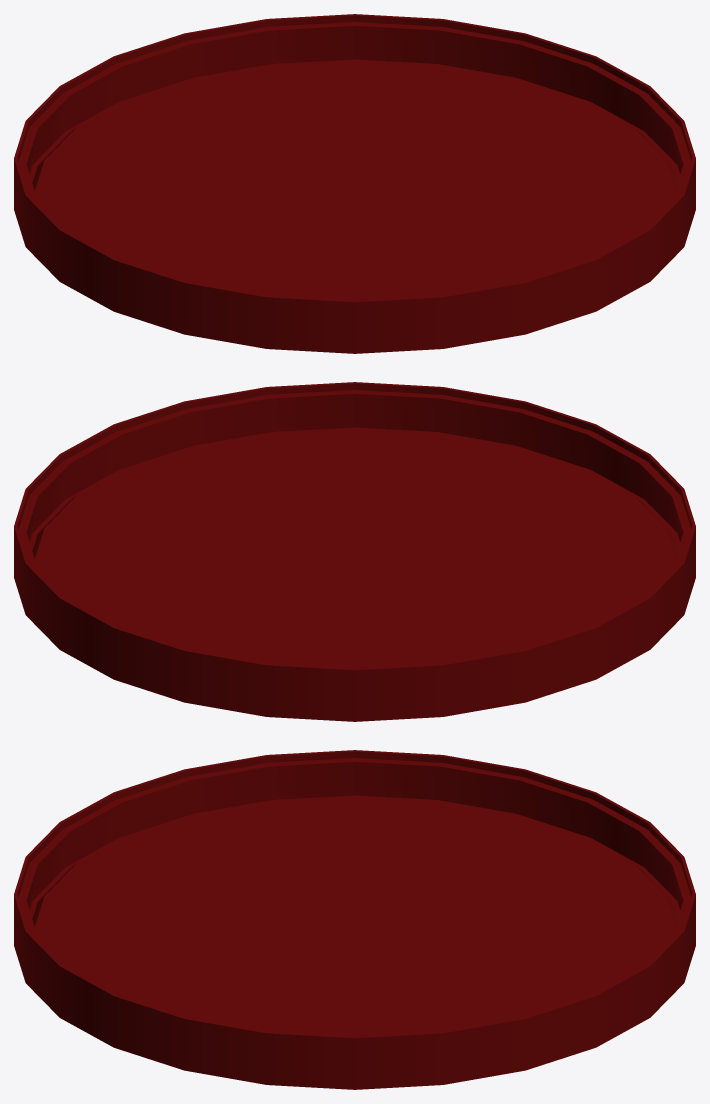
The model's file is 75mm_Can_lid.dae.
3 renders of one model, top to bottom at view 1: azimuth 30°, elevation 25°; view 2: azimuth 150°, elevation 25°; view 3: azimuth 270°, elevation 25°, orthographic.
Parts seen in each view (by area): view 1: SketchUp (×5); view 2: SketchUp (×5); view 3: SketchUp (×5).
Boxes of the visible parts, x1=… form: SketchUp (×5): x1=14, y1=14, x2=695, y2=353; SketchUp (×5): x1=14, y1=382, x2=695, y2=721; SketchUp (×5): x1=14, y1=750, x2=695, y2=1089.
Size of the model in its own units: 3.05 by 3.05 by 0.2545.
